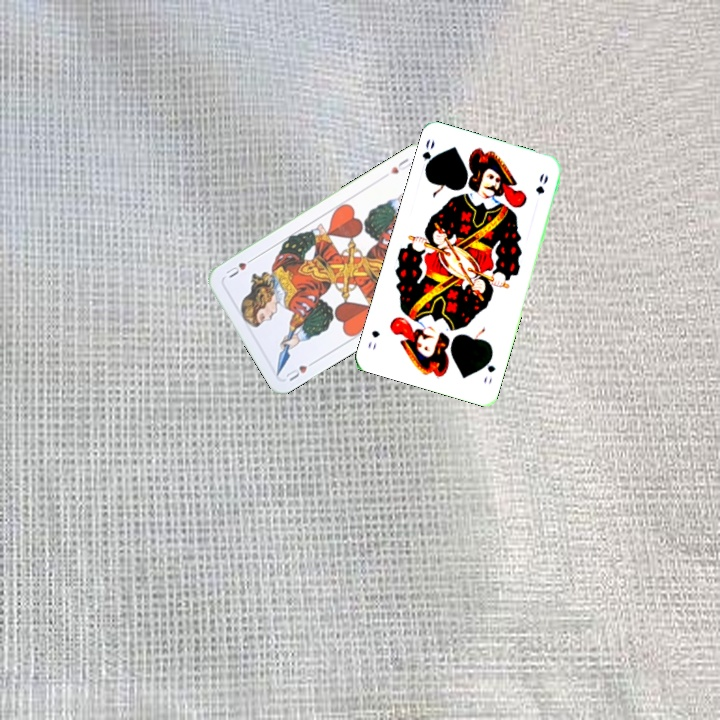GO: (418, 135, 439, 176), (479, 350, 498, 387)
HU: (282, 356, 319, 384), (386, 154, 414, 177)
